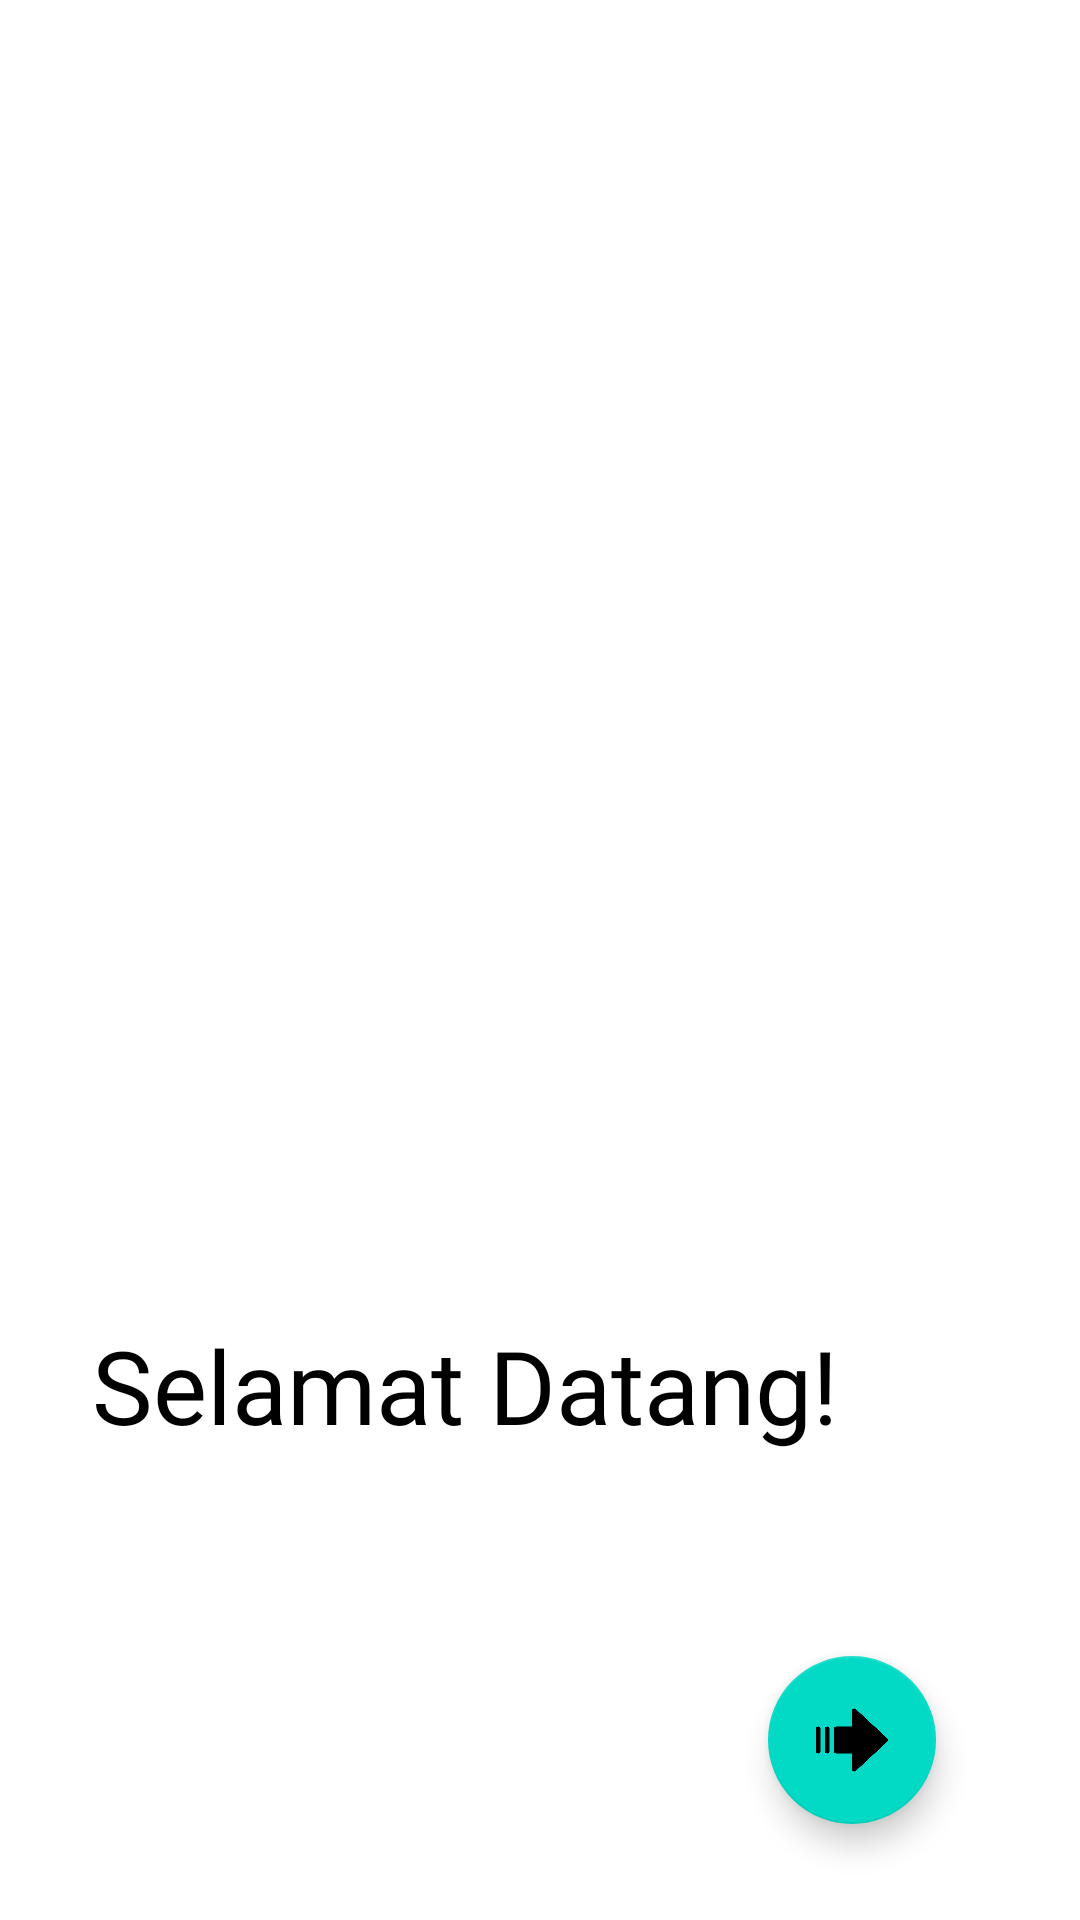

Icon bounding boxes for this 1080 × 1920 phone screenshot, format (x1, y1, x2, y2):
next: (768, 1656, 936, 1824)
